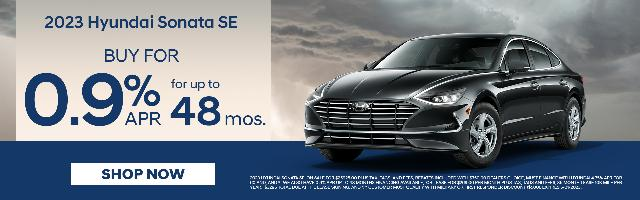hyundai: (302, 32, 586, 168)
